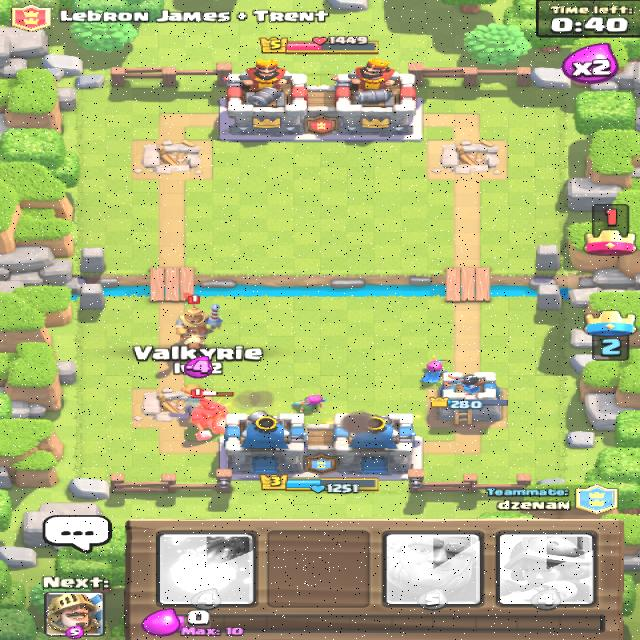Enemy-HogRider: (187, 387, 234, 442)
Enemy-Prince: (172, 291, 221, 348)
Player-Archer: (417, 355, 452, 385), (289, 394, 327, 414)
